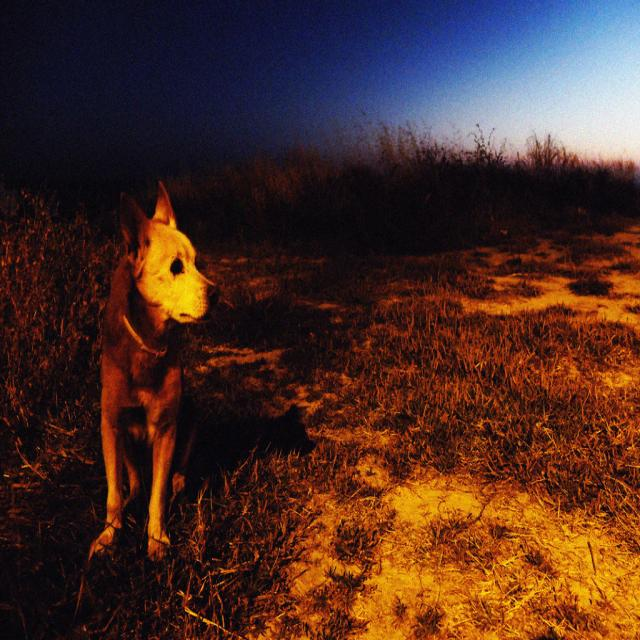dog: (62, 170, 240, 559)
